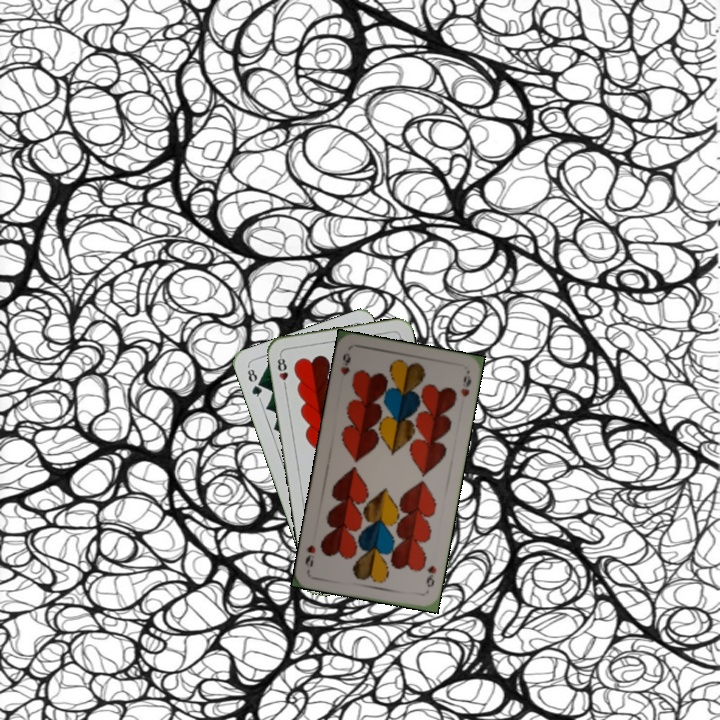G8: (243, 363, 265, 402)
H8: (273, 351, 291, 392)
H9: (336, 349, 353, 379), (422, 562, 439, 590)
